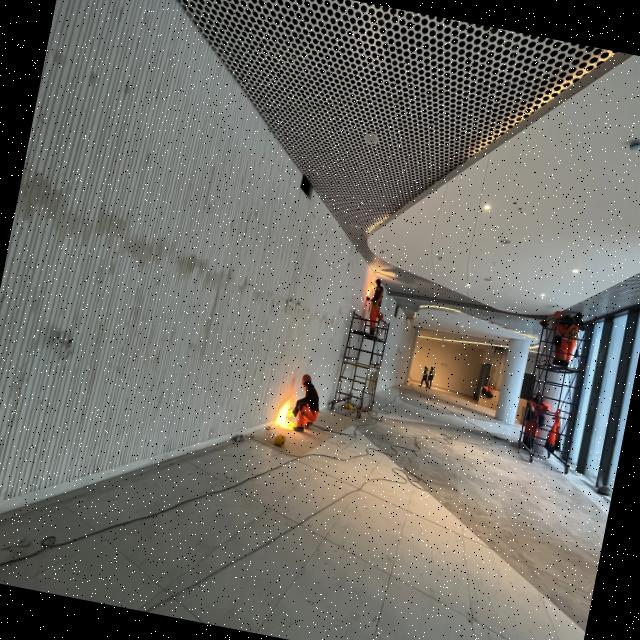Helmet: (301, 375, 313, 389), (377, 314, 385, 323), (555, 312, 564, 320), (425, 366, 428, 369), (432, 367, 435, 370)
Jacket: (529, 401, 547, 422), (376, 280, 383, 288), (430, 370, 436, 378), (425, 370, 430, 378)
NoJacket: (303, 387, 321, 411), (567, 319, 582, 339), (373, 287, 386, 307), (554, 322, 566, 341)
